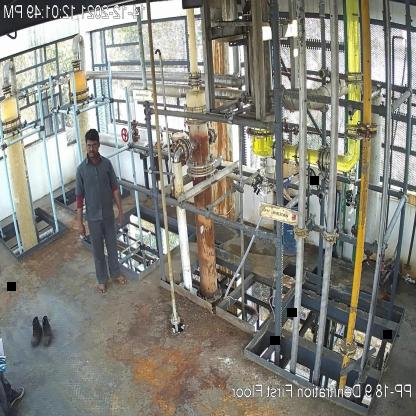no_shoes: (112, 274, 128, 284), (98, 282, 109, 296)
shoes: (38, 314, 53, 348), (29, 317, 42, 346)
